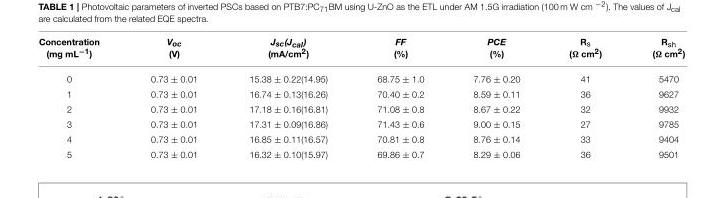table: (37, 37, 684, 158)
table column: (222, 37, 351, 158), (124, 37, 222, 158), (351, 37, 447, 158), (447, 37, 543, 158), (37, 37, 124, 158), (543, 37, 626, 158), (626, 37, 684, 158)
table column header: (37, 37, 684, 66)
table row: (37, 37, 684, 66), (37, 66, 684, 86), (37, 86, 684, 101), (37, 101, 684, 116), (37, 116, 684, 131), (37, 131, 684, 146), (37, 146, 684, 158)
